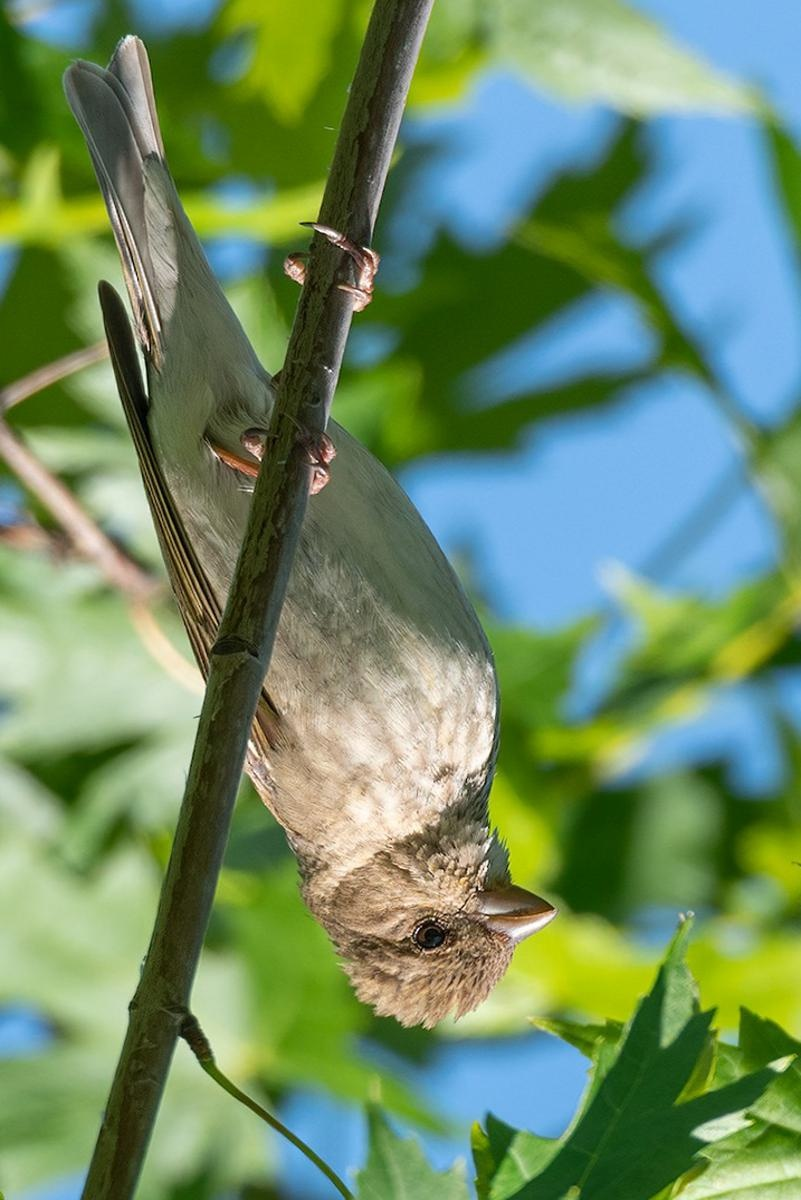rosefinch: (100, 153, 578, 1037)
